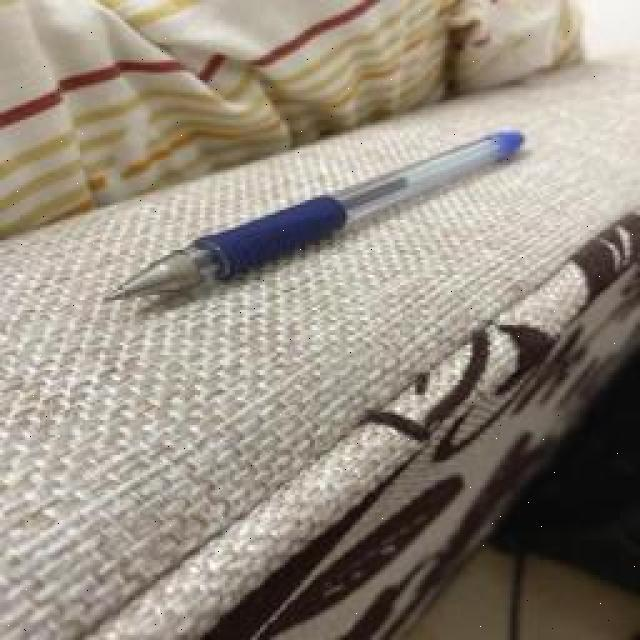pen: (100, 130, 530, 308)
